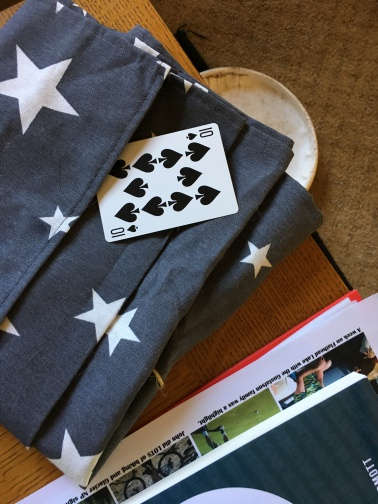ten: (95, 122, 239, 244)
